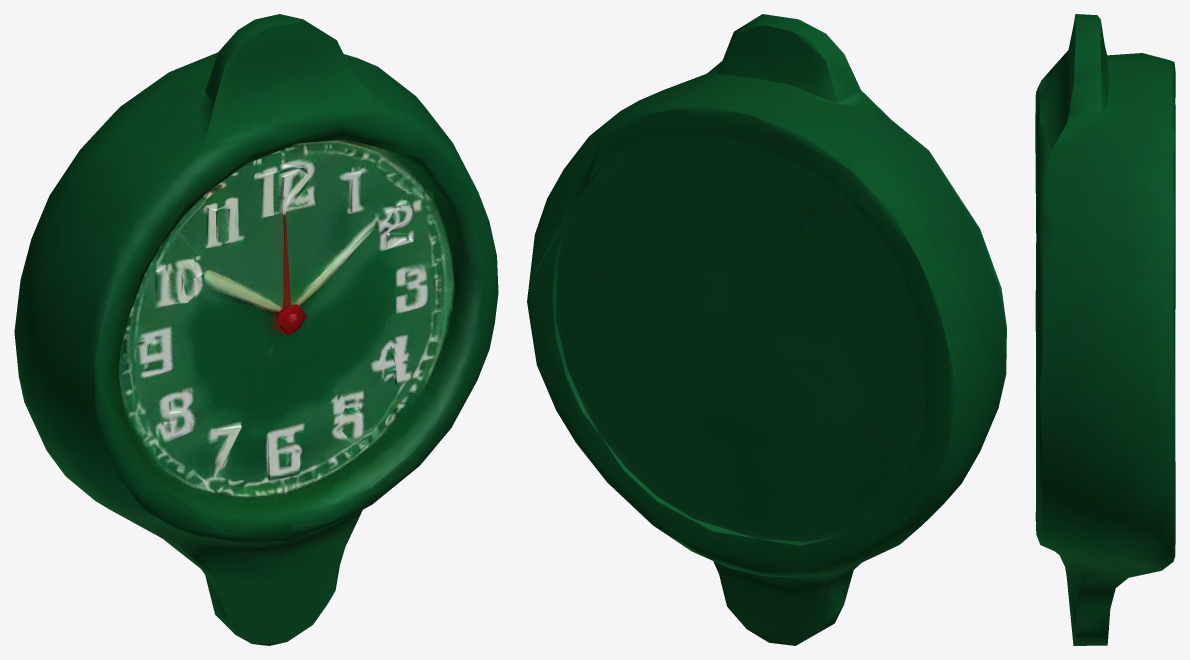
The model's file is stationClock.glb.
The picture shows the model from 3 angles, left to right: view 1: azimuth 30°, elevation 25°; view 2: azimuth 150°, elevation 25°; view 3: azimuth 270°, elevation 25°; orthographic projection.
Parts seen in each view (by area): view 1: model; view 2: model; view 3: model.
Boxes of the visible parts, x1,y1,x2,y2 form: model: [14, 14, 498, 645]; model: [527, 14, 1006, 645]; model: [1035, 14, 1175, 645].
Size of the model in its own units: 1.41 by 1.9 by 0.3906.
1 material, 1 textured.
